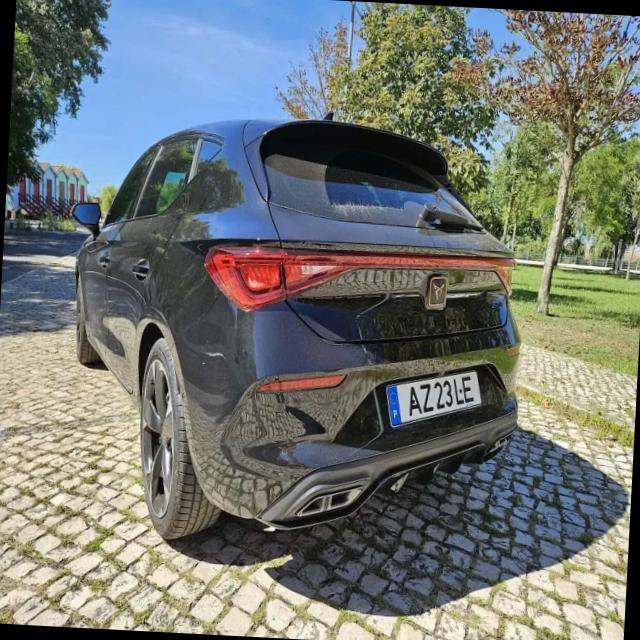portuguese-license-plates: (383, 364, 490, 432)
